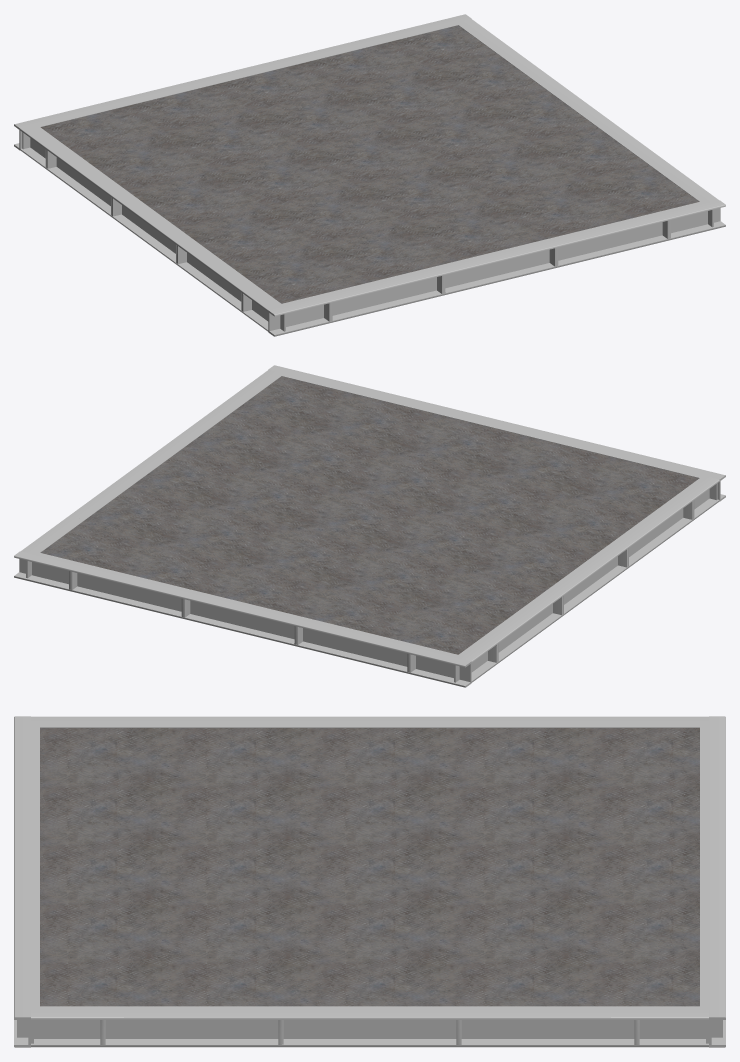
File: SM_Platform_Large_A.fbx
The picture shows the model from 3 angles, top to bottom: view 1: azimuth 30°, elevation 25°; view 2: azimuth 150°, elevation 25°; view 3: azimuth 270°, elevation 25°; orthographic projection. The views are drawn at different scales.
Parts seen in each view (by area): view 1: SM_Platform_Large_A_LOD0; view 2: SM_Platform_Large_A_LOD0; view 3: SM_Platform_Large_A_LOD0.
Part boxes in pixels (x1,y1,x2,y2): SM_Platform_Large_A_LOD0: (14, 14, 725, 336); SM_Platform_Large_A_LOD0: (14, 365, 725, 687); SM_Platform_Large_A_LOD0: (14, 716, 725, 1047).
Bounding box in the file's own units: 512 × 512 × 24.
